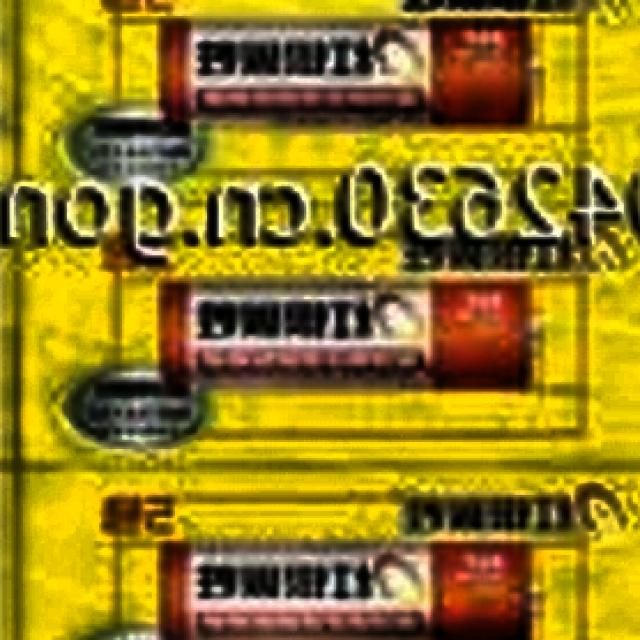Non-Valuable Waste - Batteries: (160, 283, 529, 391), (160, 22, 529, 126), (160, 542, 529, 640)
